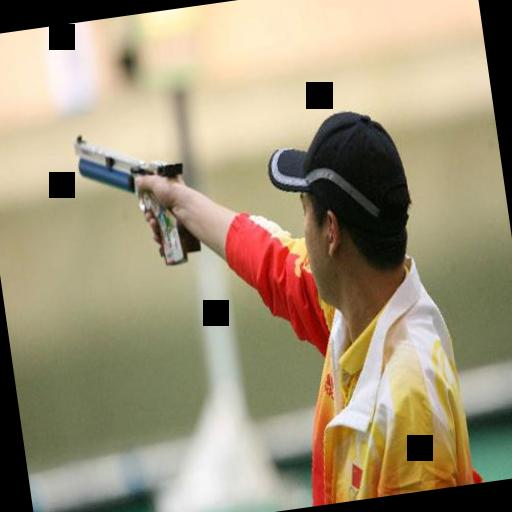Handgun: (70, 118, 202, 280)
